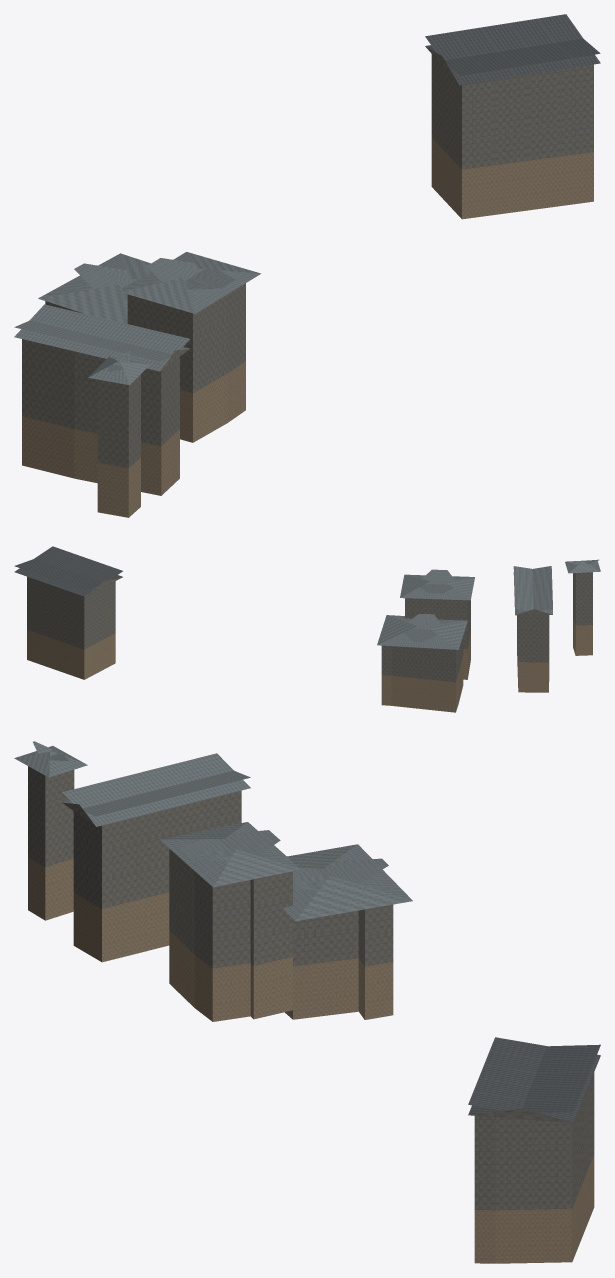
Rendered from bld_c33_-40_446.gltf.
3 renders of one model, top to bottom at view 1: azimuth 30°, elevation 25°; view 2: azimuth 150°, elevation 25°; view 3: azimuth 270°, elevation 25°, orthographic. The views are drawn at different scales.
Visible parts, largest first — view 1: bld_c33_-40_446; view 2: bld_c33_-40_446; view 3: bld_c33_-40_446.
Boxes of the visible parts, left/top/right/bottom form: bld_c33_-40_446: left=14, top=14, right=600, bottom=517; bld_c33_-40_446: left=14, top=546, right=600, bottom=712; bld_c33_-40_446: left=14, top=741, right=600, bottom=1263.
Bounding box in the file's own units: 77.25 × 16.7 × 50.67.
5 materials, 5 textured.
